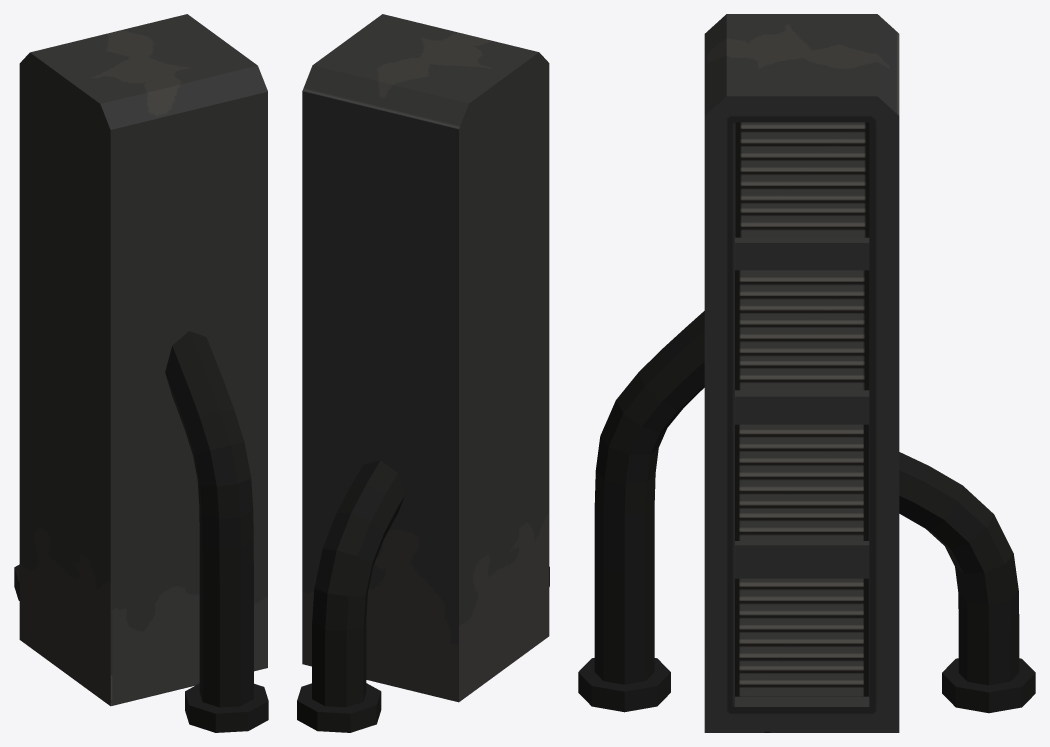
Rendered from standingVent.obj.
The picture shows the model from 3 angles, left to right: view 1: azimuth 30°, elevation 25°; view 2: azimuth 150°, elevation 25°; view 3: azimuth 270°, elevation 25°; orthographic projection. The views are drawn at different scales.
Parts seen in each view (by area): view 1: Cube, Cylinder.001; view 2: Cube, Cylinder.002; view 3: Cube, Cylinder.001, Cylinder.002.
Part boxes in pixels (bbox=[...]): Cube: bbox=[19, 14, 267, 706]; Cylinder.001: bbox=[165, 331, 268, 732]; Cube: bbox=[302, 14, 549, 702]; Cylinder.002: bbox=[297, 460, 404, 732]; Cube: bbox=[704, 14, 899, 732]; Cylinder.001: bbox=[578, 311, 704, 712]; Cylinder.002: bbox=[899, 452, 1035, 713].
Bounding box in the file's own units: 2 × 7.23 × 4.7.
Materials: 3 (3 with a texture image).
